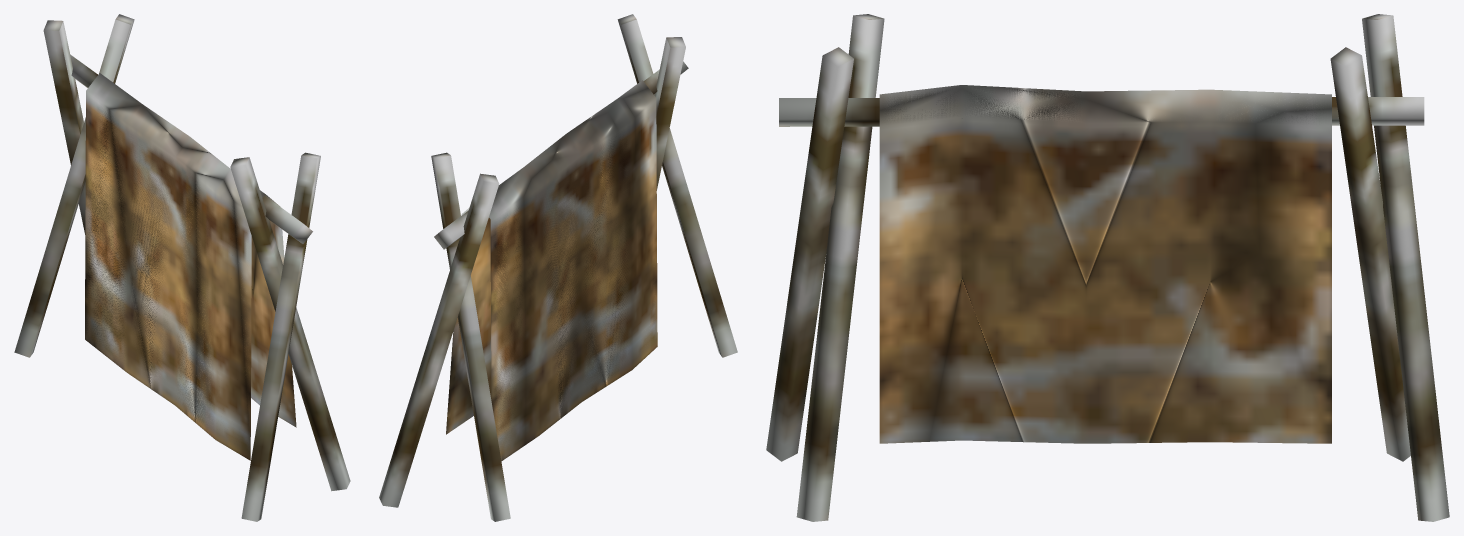
File: nsm-general_obj_02.fbx
3 renders of one model, left to right at view 1: azimuth 30°, elevation 25°; view 2: azimuth 150°, elevation 25°; view 3: azimuth 270°, elevation 25°, orthographic. The views are drawn at different scales.
Visible parts, largest first — view 1: Mesh01; view 2: Mesh01; view 3: Mesh01.
Boxes of the visible parts, left/top/right/bottom form: Mesh01: left=14, top=14, right=350, bottom=521; Mesh01: left=379, top=14, right=737, bottom=521; Mesh01: left=766, top=14, right=1449, bottom=521.
Size of the model in its own units: 1 by 2.66 by 3.61.
